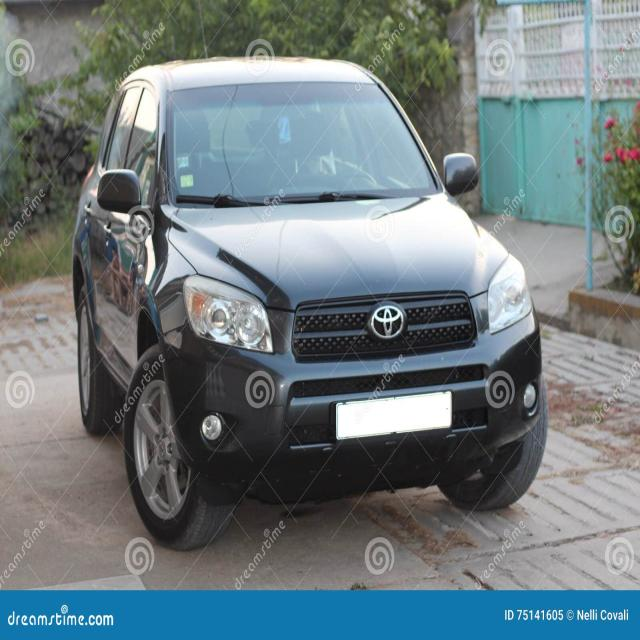light_vehicle: (73, 54, 549, 548)
